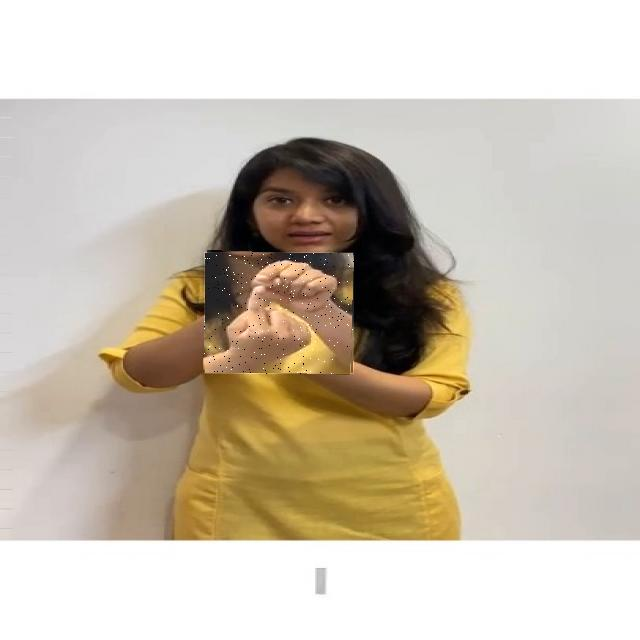I: (204, 252, 354, 374)
